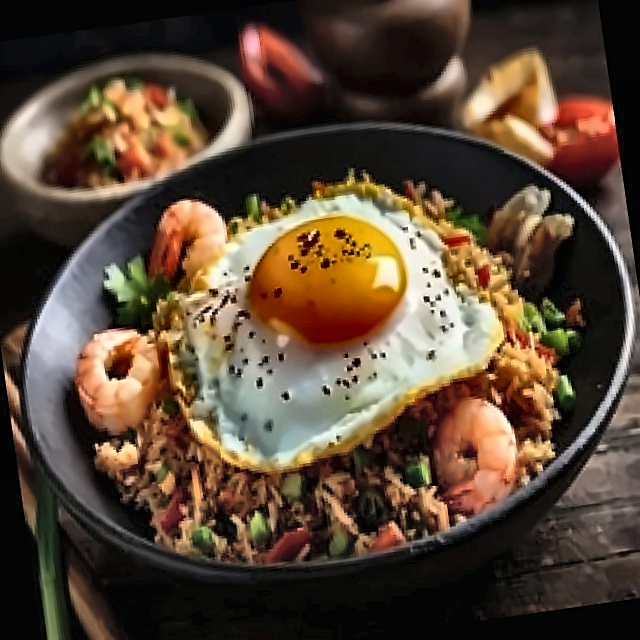egg: (171, 157, 515, 477)
rice: (62, 156, 596, 586)
shrimp: (36, 65, 215, 194), (408, 402, 538, 517), (70, 320, 170, 437), (145, 192, 235, 282)
